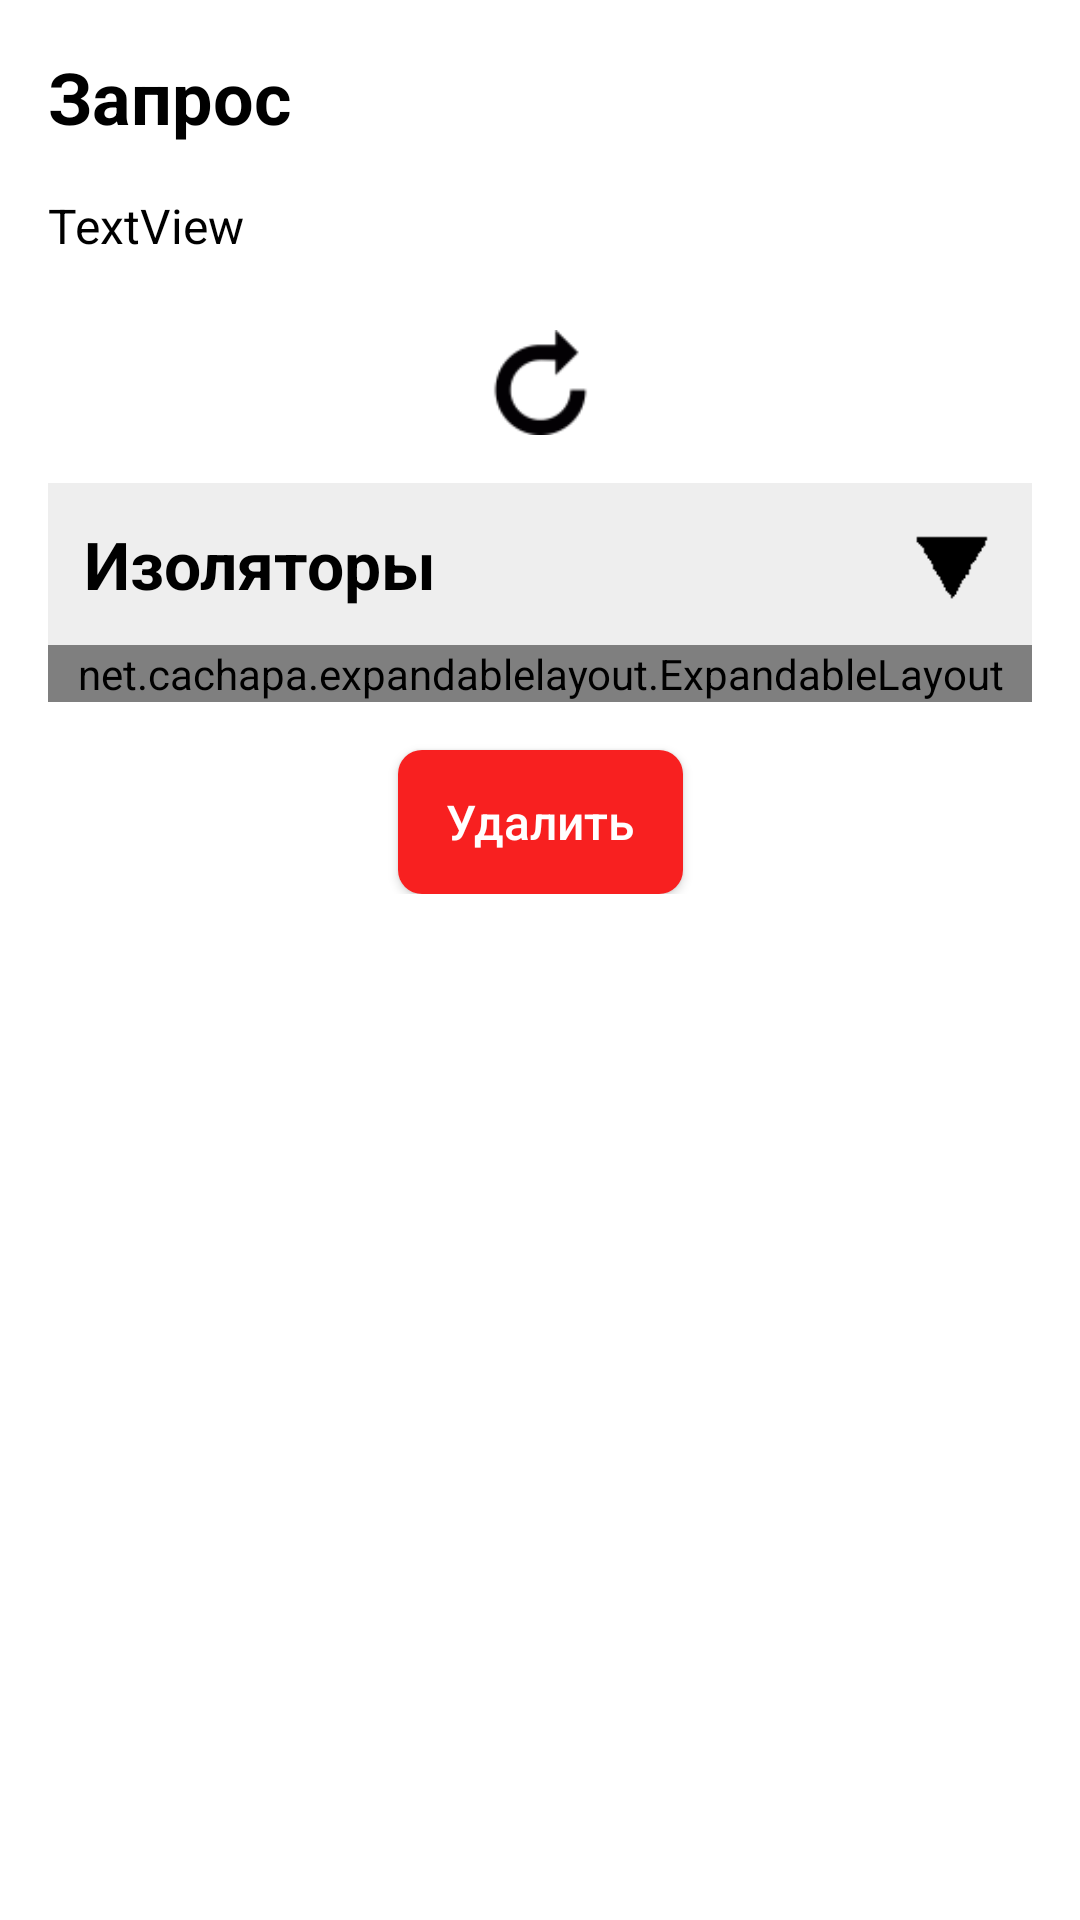

Named icons in this screenshot (1080px x 1920px) and their centers, (x=x, y=y):
reload: (x=540, y=382)
triangle: (x=952, y=567)
